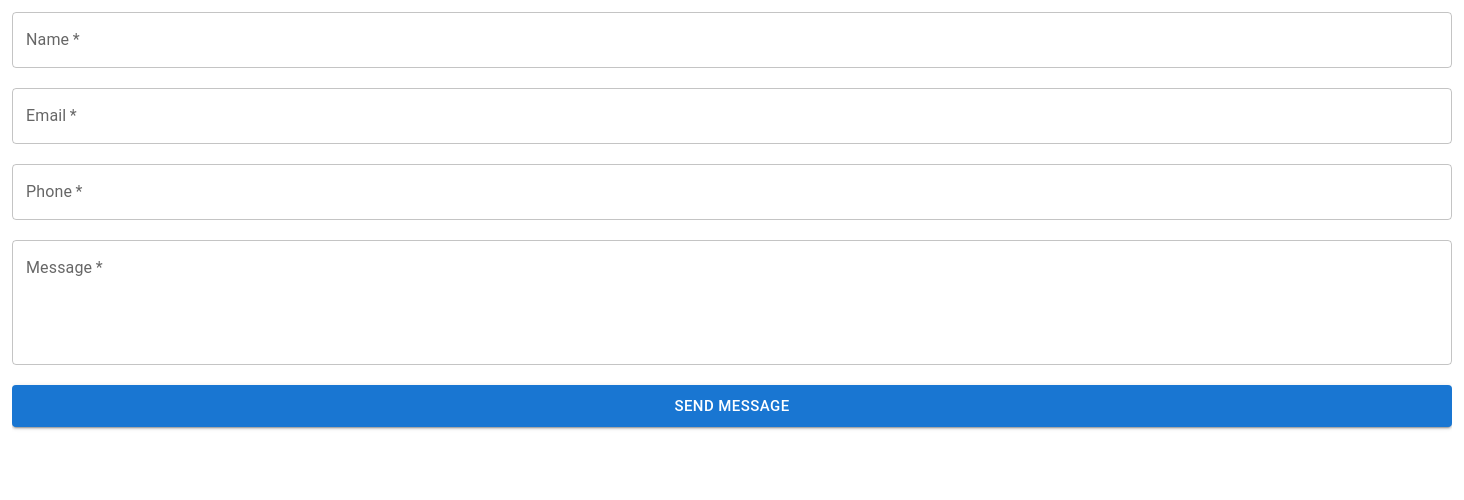
Test: ContactForm › blocks submission on an invalid email or phone
Step 1. Type "Jane Doe" into the field labelled "Name *" → coordinates (732, 40), box [12,12,1452,68]
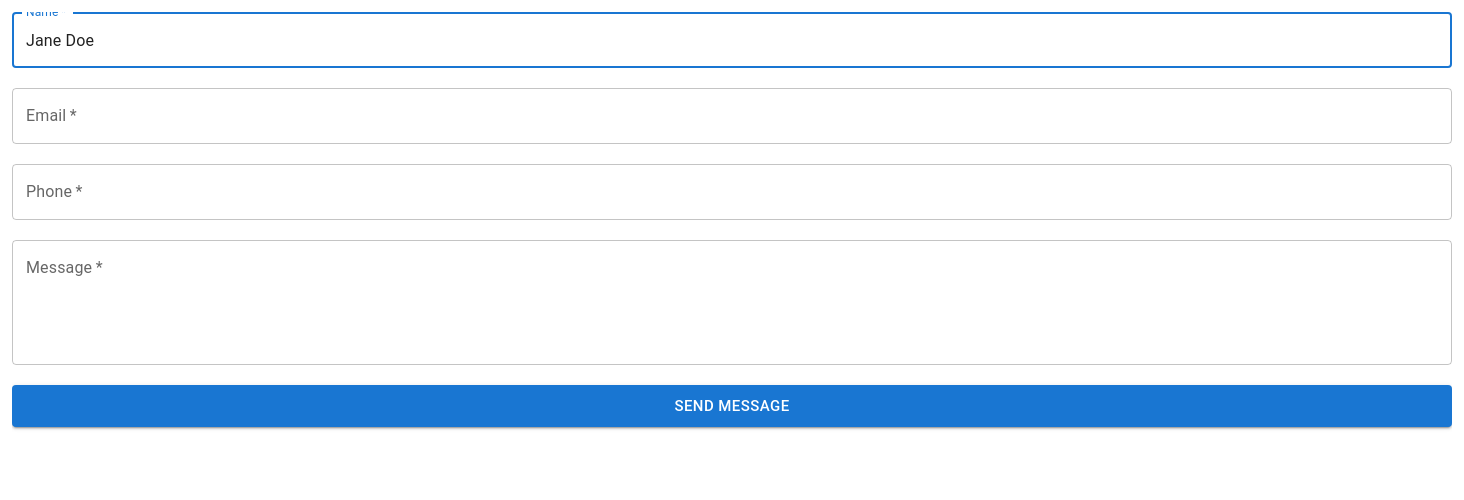
Step 2. Type "not-an-email" into the field labelled "Email *" → coordinates (732, 116), box [12,88,1452,144]
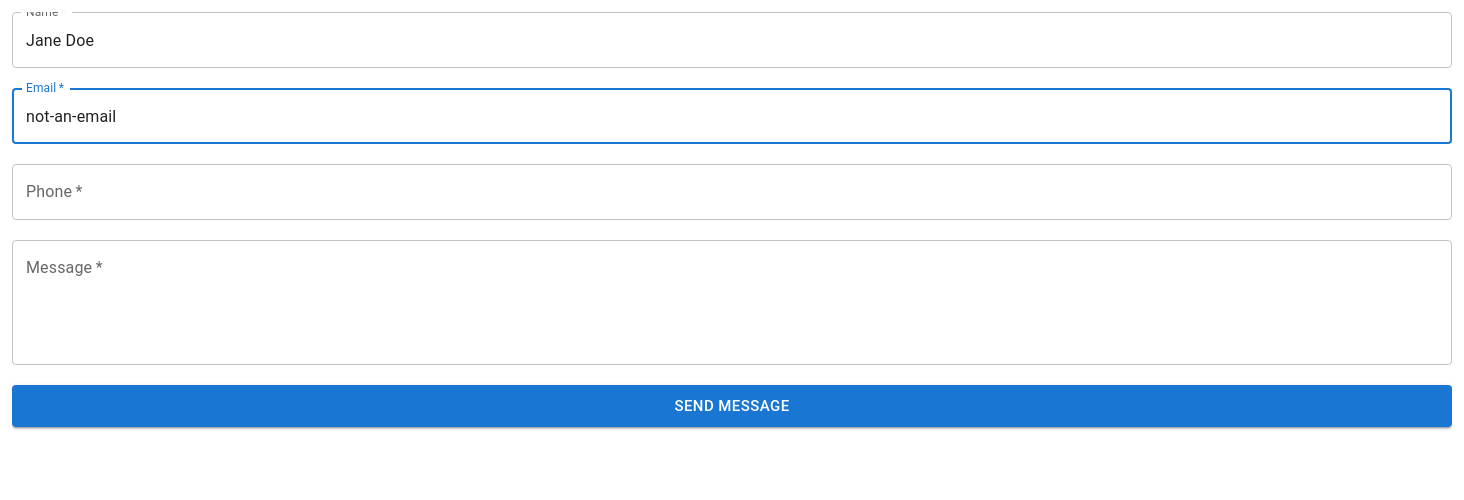
Step 3. Type "1" into the field labelled "Phone *" → coordinates (732, 192), box [12,164,1452,220]
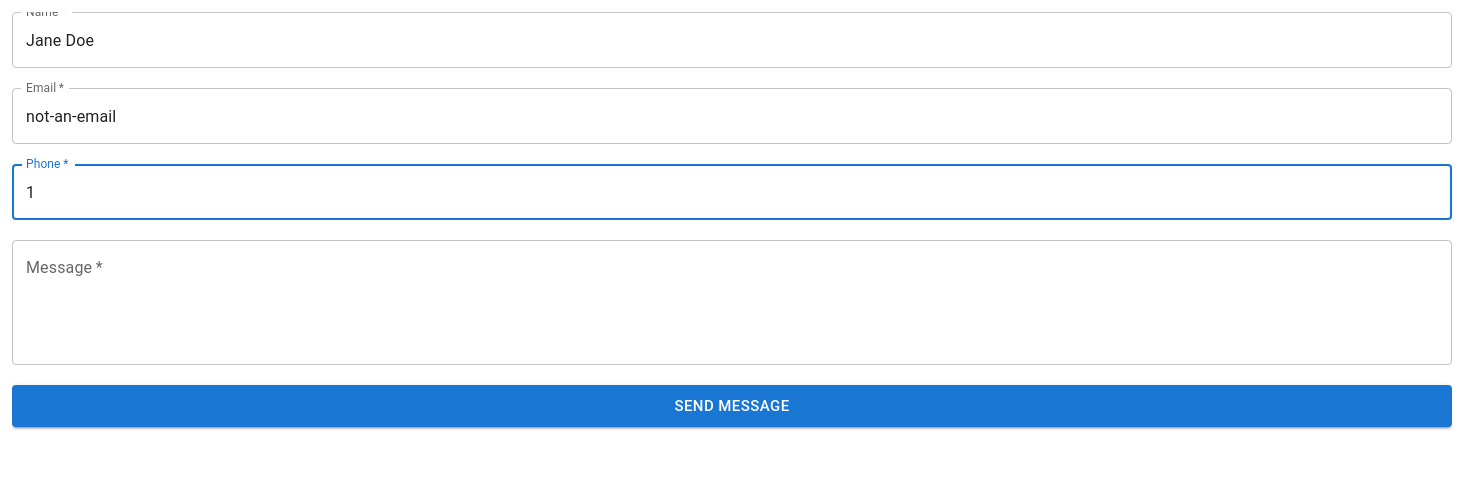
Step 4. Type "Hi" into the text box labelled "Message *" → coordinates (732, 302), box [26,256,1438,348]
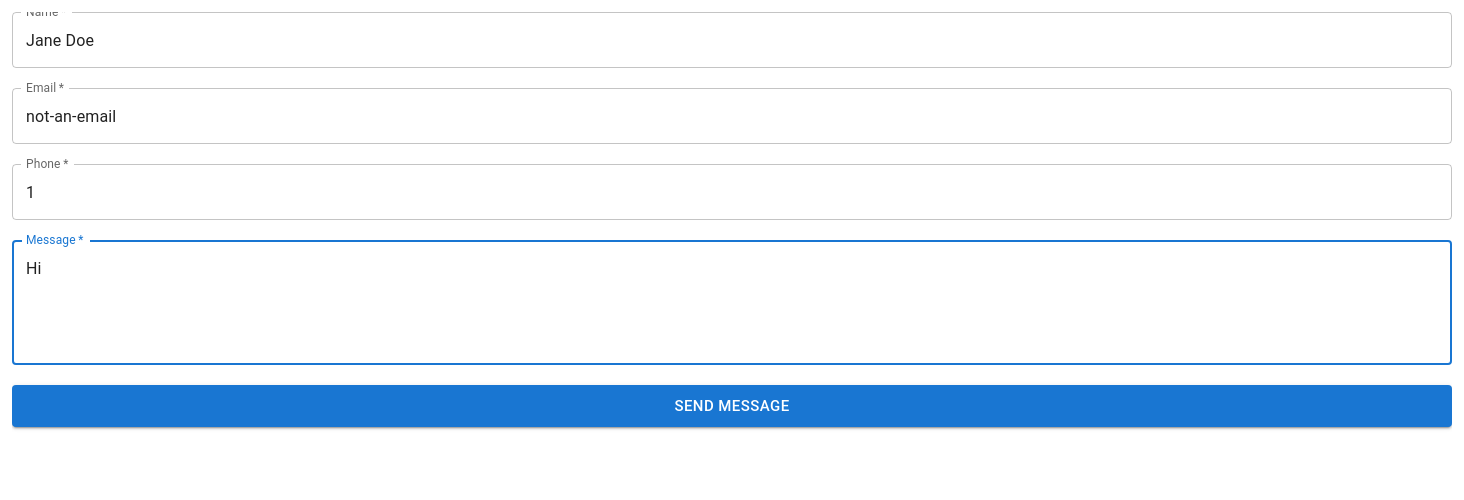
Step 5. Click the button "Send Message" → coordinates (732, 406), box [12,385,1452,427]
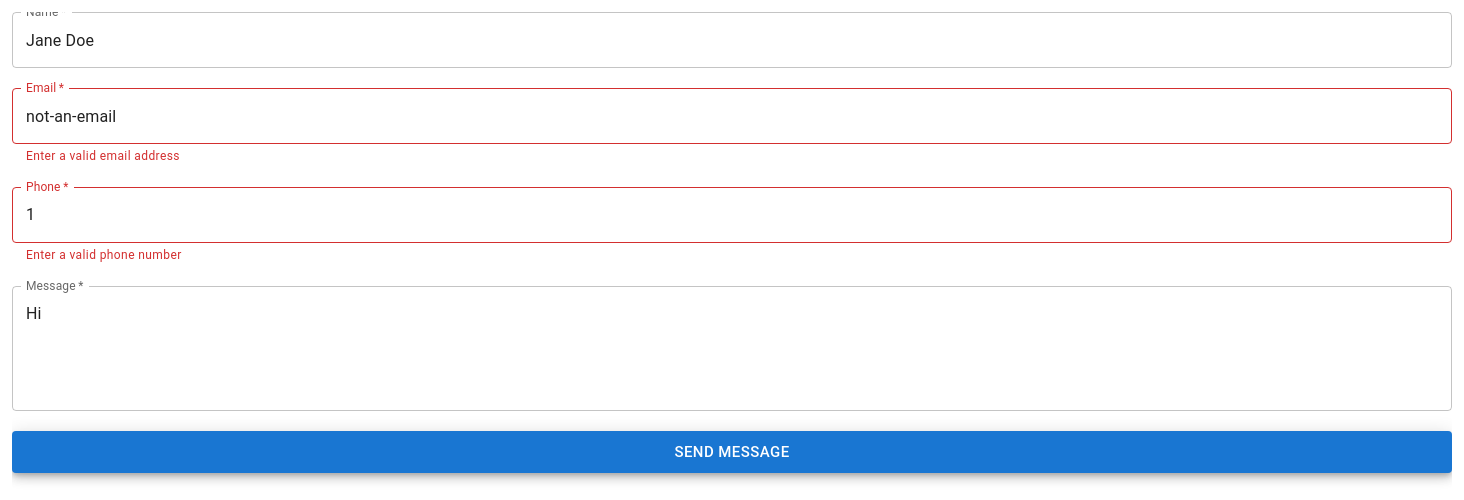
expect the text "Enter a valid email address" is shown: met, box [26,149,180,163]
expect the text "Enter a valid phone number" is shown: met, box [26,248,182,262]
